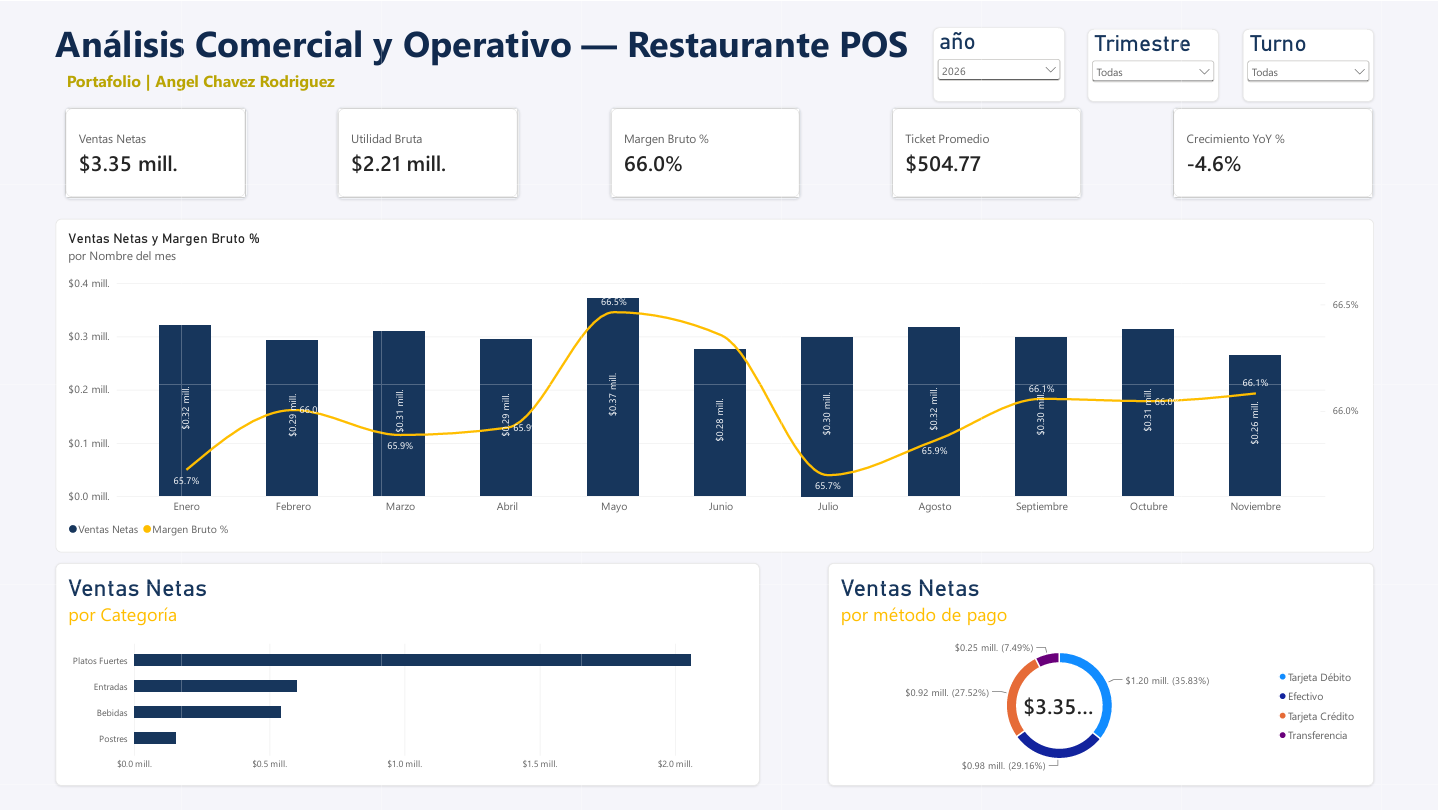

Layout of this report page (visuals, bound fields, positions):
{"tool":"powerbi","page":{"name":"Resumen Ejecutivo","canvas":[1920,1080],"ordinal":0},"visuals":[{"type":"textbox","box":[74.4,21.9,1187.6,96.3],"z":0},{"type":"slicer","fields":{"Values":["dim_calendario.anio"]},"box":[1244.5,33.6,175.1,99.2],"z":1000},{"type":"slicer","fields":{"Values":["dim_calendario.trimestre"]},"box":[1450.2,36.5,175.1,96.3],"z":2000},{"type":"slicer","fields":{"Values":["dim_meseros.Turno"]},"box":[1657.4,36.5,175.1,96.3],"z":3000},{"type":"cardVisual","fields":{"Data":["_Medidas (2).Ventas Netas"]},"box":[86.1,140.1,243.6,122.6],"z":4000},{"type":"cardVisual","fields":{"Data":["_Medidas (2).Utilidad Bruta"]},"box":[449.4,140.1,243.6,122.6],"z":5000},{"type":"cardVisual","fields":{"Data":["_Medidas (2).Margen Bruto %"]},"box":[812.6,140.1,255.3,122.6],"z":6000},{"type":"cardVisual","fields":{"Data":["_Medidas (2).Ticket Promedio"]},"box":[1187.6,140.1,255.3,122.6],"z":7000},{"type":"cardVisual","fields":{"Data":["_Medidas (2).Crecimiento YoY %"]},"box":[1562.6,140.1,269.9,122.6],"z":8000},{"type":"lineClusteredColumnComboChart","fields":{"Category":["dim_calendario.nombre_mes"],"Y":["_Medidas (2).Ventas Netas"],"Y2":["_Medidas (2).Margen Bruto %"]},"box":[74.4,288.9,1758.1,445],"z":9000},{"type":"clusteredBarChart","fields":{"Category":["dim_platillos.categoria"],"Y":["_Medidas (2).Ventas Netas"]},"box":[74.4,748.4,938.1,296.2],"z":10000},{"type":"donutChart","fields":{"Category":["dim_metodos_pago.metodo_pago"],"Y":["_Medidas (2).Ventas Netas"]},"box":[1104.4,748.4,728,296.2],"z":11000},{"type":"textbox","box":[89,90.5,805.3,55.4],"z":12000}]}

Visuals, with their boxes in screenshot pixels (x1, y1, x2, y2), scaled from the page's 1920x1080 canvas onto the 1438x810 screenshot:
textbox: region(56, 16, 945, 89)
slicer - dim_calendario.anio: region(932, 25, 1063, 100)
slicer - dim_calendario.trimestre: region(1086, 27, 1217, 100)
slicer - dim_meseros.Turno: region(1241, 27, 1372, 100)
cardVisual - _Medidas (2).Ventas Netas: region(64, 105, 247, 197)
cardVisual - _Medidas (2).Utilidad Bruta: region(337, 105, 519, 197)
cardVisual - _Medidas (2).Margen Bruto %: region(609, 105, 800, 197)
cardVisual - _Medidas (2).Ticket Promedio: region(889, 105, 1081, 197)
cardVisual - _Medidas (2).Crecimiento YoY %: region(1170, 105, 1372, 197)
lineClusteredColumnComboChart - dim_calendario.nombre_mes x _Medidas (2).Ventas Netas: region(56, 217, 1372, 550)
clusteredBarChart - dim_platillos.categoria x _Medidas (2).Ventas Netas: region(56, 561, 758, 783)
donutChart - dim_metodos_pago.metodo_pago x _Medidas (2).Ventas Netas: region(827, 561, 1372, 783)
textbox: region(67, 68, 670, 109)
